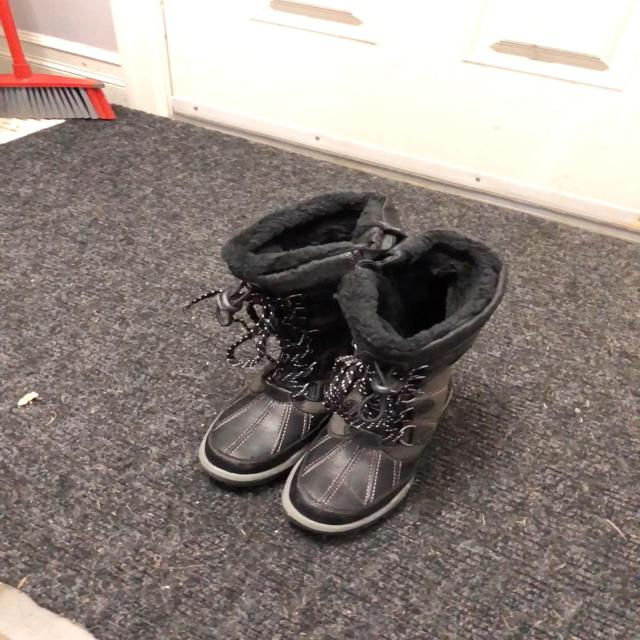shoe: (280, 373, 450, 544), (198, 340, 340, 494)
